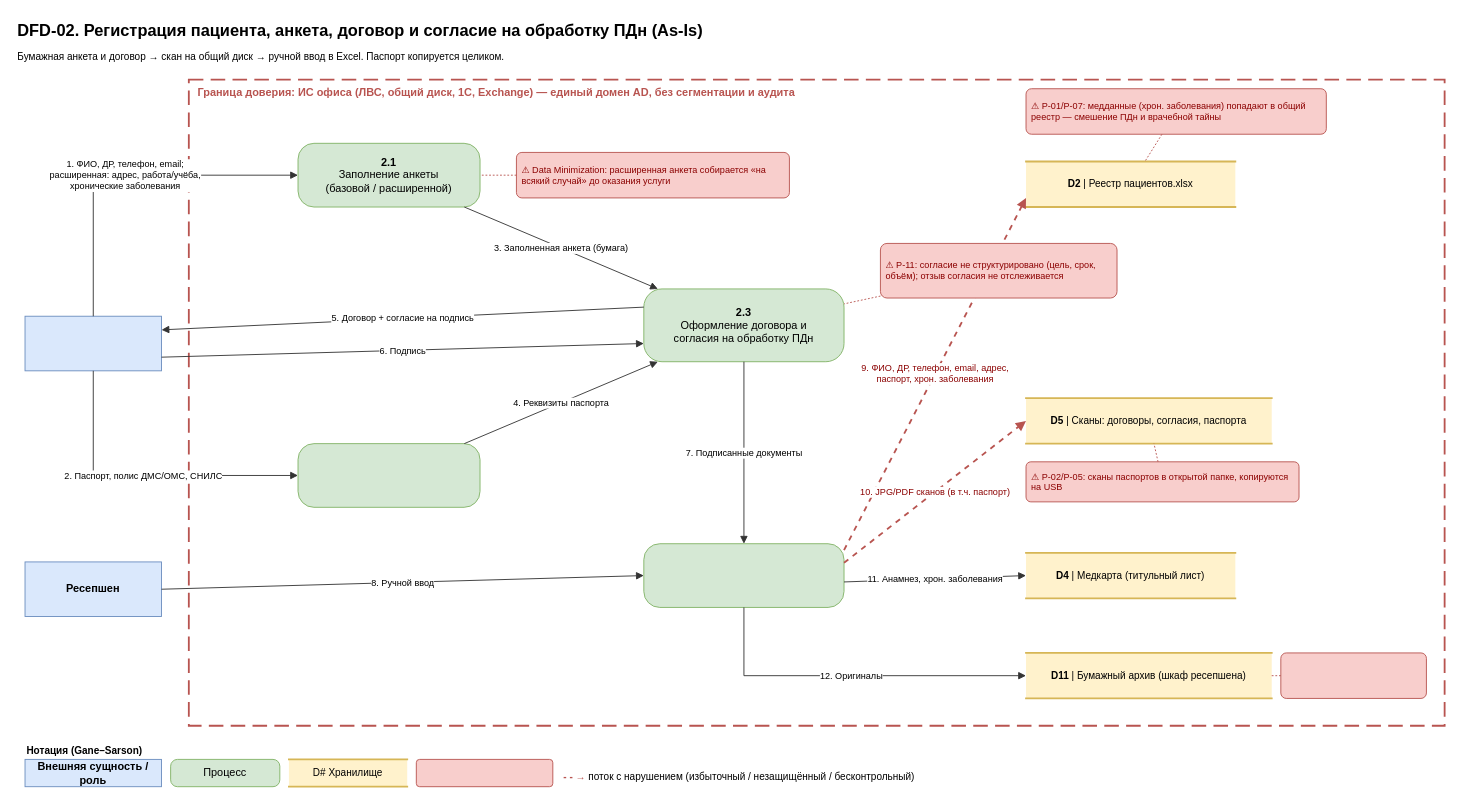
Some shapes in this 1469 by 803 pixel diagram are drawn without their labels. Each missing label, with the box of its shape:
2.2 Проверка документов, копия паспорта: (297, 443, 480, 507)
2.4 Сканирование и ручной ввод в Excel: (643, 543, 844, 607)
Пациент: (24, 315, 162, 371)
⚠ P-21: бумажный архив без учёта выдачи: (1280, 652, 1426, 698)
⚠ P-xx — проблема (см. problems.md): (415, 758, 553, 787)
